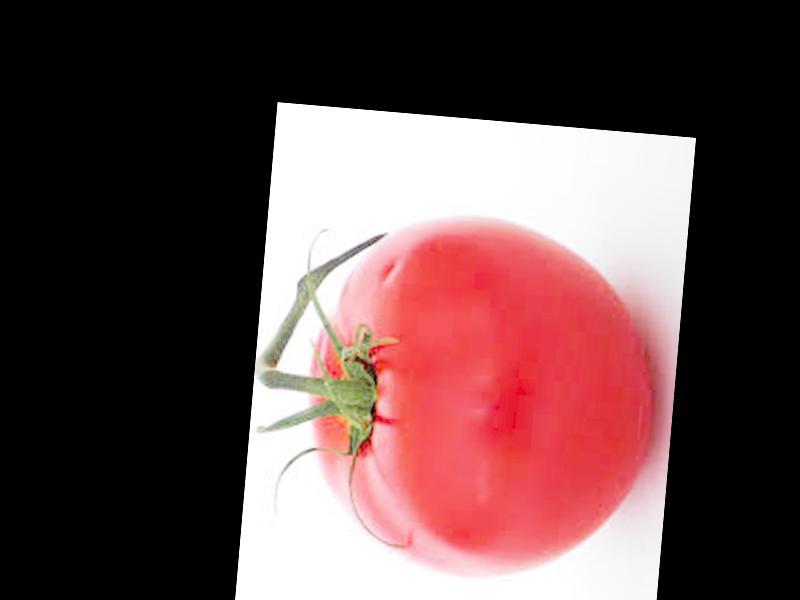Tomato: (295, 206, 670, 595)
